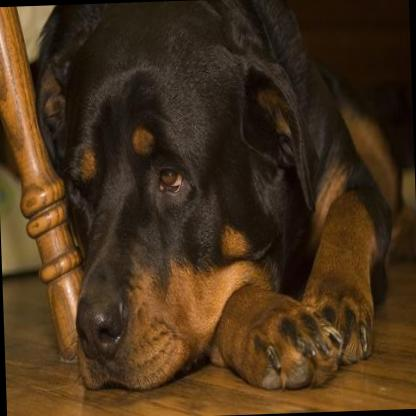Rottweiler: (29, 0, 416, 397)
